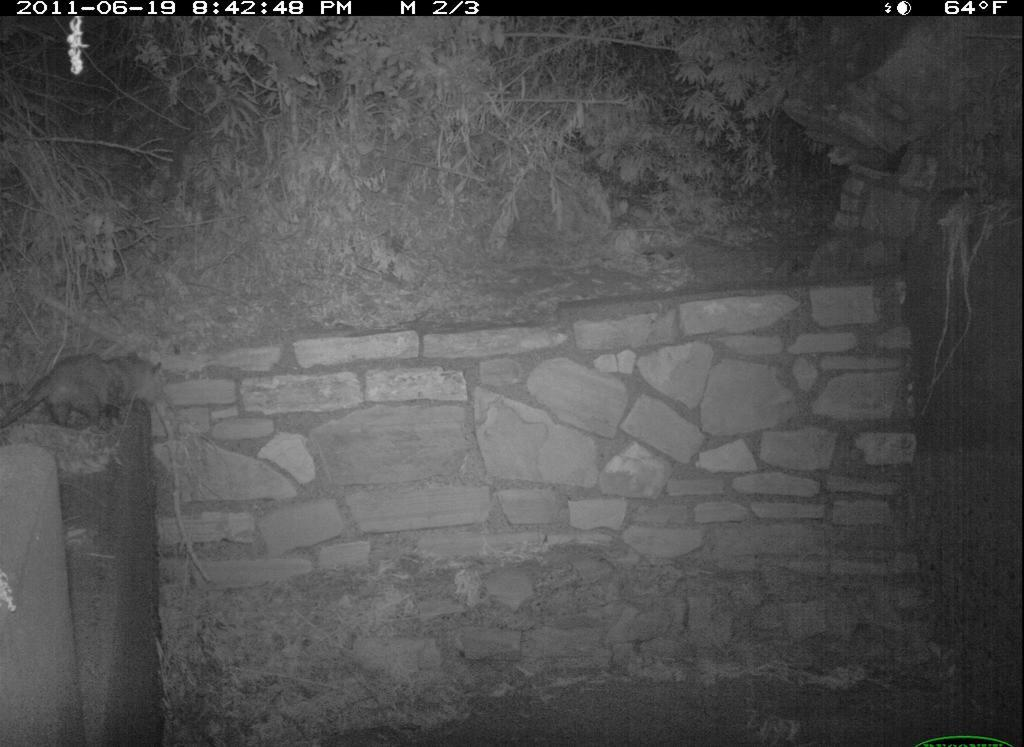opossum: (1, 345, 169, 450)
